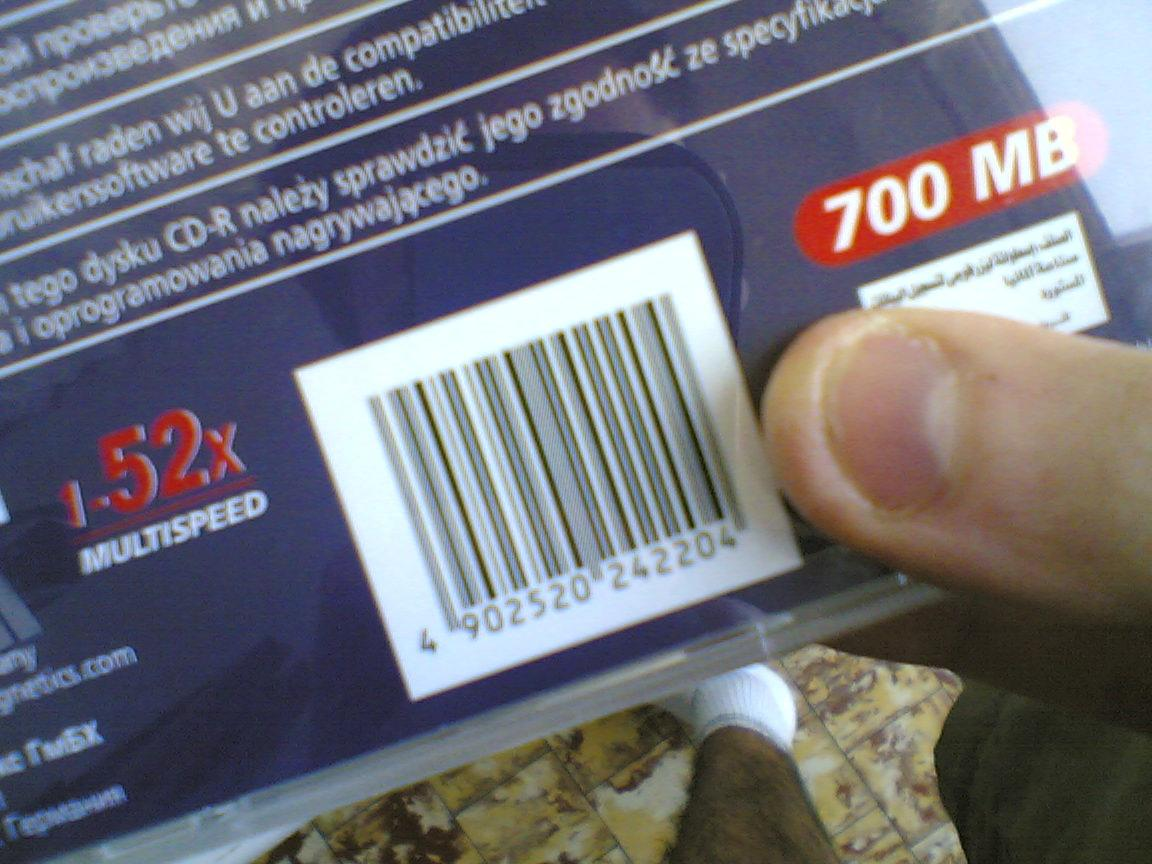Barcode: (296, 229, 807, 698)
